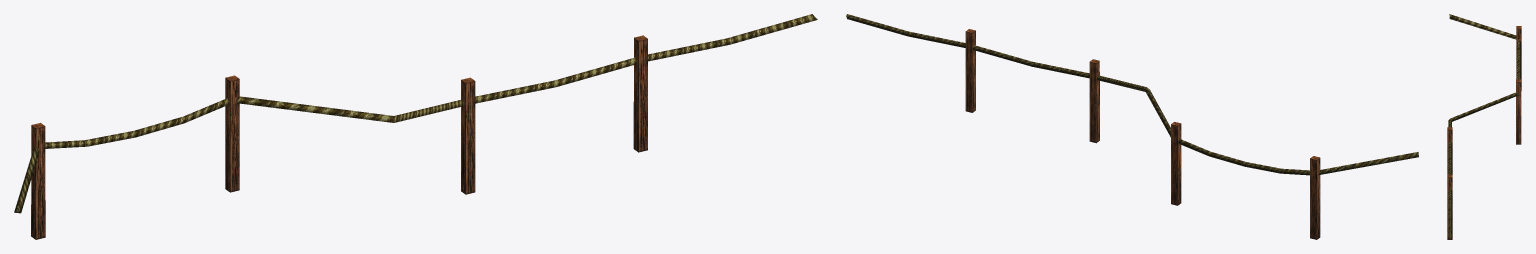
Rendered from LAKETOWN_PUB_PS_PUB_HANDRAIL646__GX.fbx.
The picture shows the model from 3 angles, left to right: view 1: azimuth 30°, elevation 25°; view 2: azimuth 150°, elevation 25°; view 3: azimuth 270°, elevation 25°; orthographic projection. The views are drawn at different scales.
Parts seen in each view (by area): view 1: LAKETOWN_PUB_PS_PUB_HANDRAIL646__GX; view 2: LAKETOWN_PUB_PS_PUB_HANDRAIL646__GX; view 3: LAKETOWN_PUB_PS_PUB_HANDRAIL646__GX.
Boxes of the visible parts, box(x1,y1,x2,y2) form: LAKETOWN_PUB_PS_PUB_HANDRAIL646__GX: box(14, 14, 817, 239); LAKETOWN_PUB_PS_PUB_HANDRAIL646__GX: box(846, 14, 1418, 239); LAKETOWN_PUB_PS_PUB_HANDRAIL646__GX: box(1447, 14, 1521, 239).
Bounding box in the file's own units: 71463 × 9503 × 10201.
Materials: 3 (3 with a texture image).
